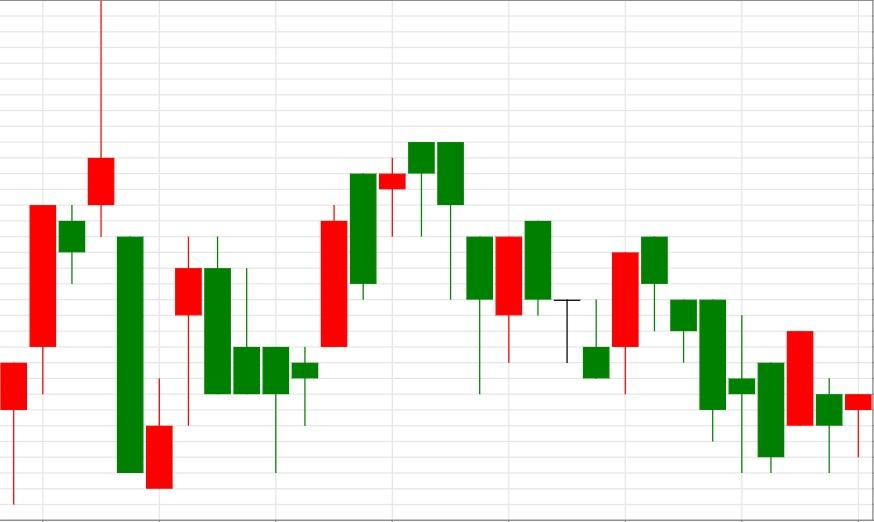hanging_man_fall: (262, 141, 436, 472)
